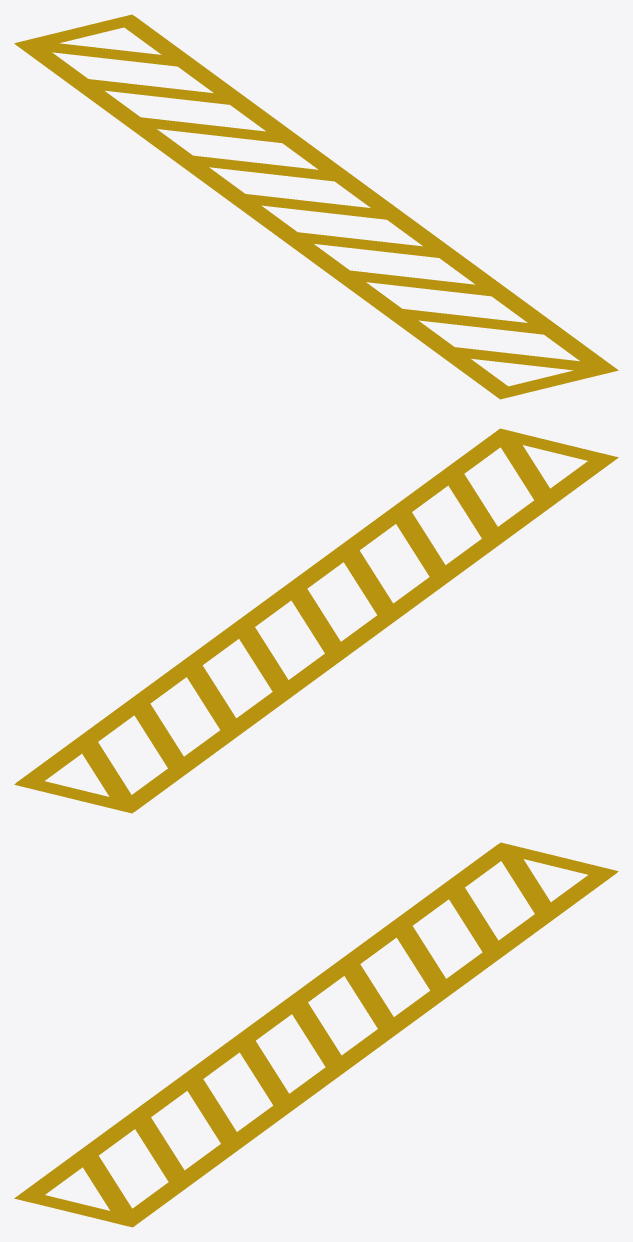
File: hazard_lines_striped.obj
3 renders of one model, top to bottom at view 1: azimuth 30°, elevation 25°; view 2: azimuth 150°, elevation 25°; view 3: azimuth 330°, elevation 25°, orthographic.
Parts seen in each view (by area): view 1: hazard_lines.002; view 2: hazard_lines.002; view 3: hazard_lines.002.
Part boxes in pixels (x1,y1,x2,y2): hazard_lines.002: (14,14,618,399); hazard_lines.002: (14,428,618,813); hazard_lines.002: (14,842,618,1227).
Bounding box in the file's own units: 0.9807 × 2e-06 × 6.95.
